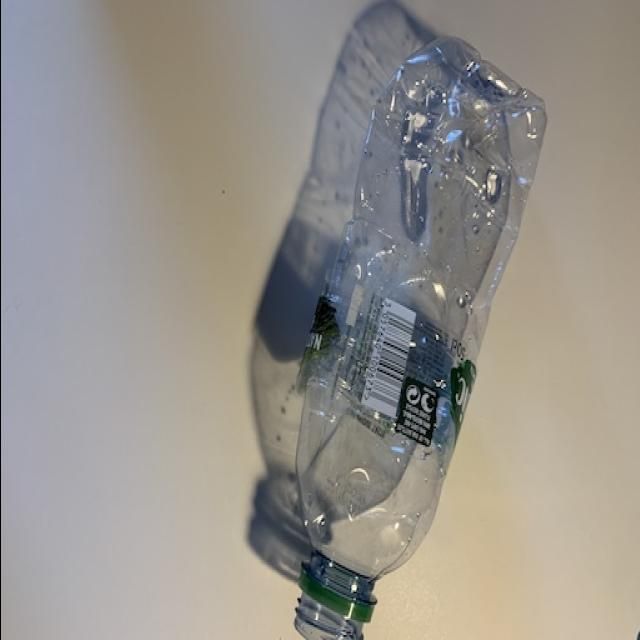PET: (288, 30, 550, 640)
